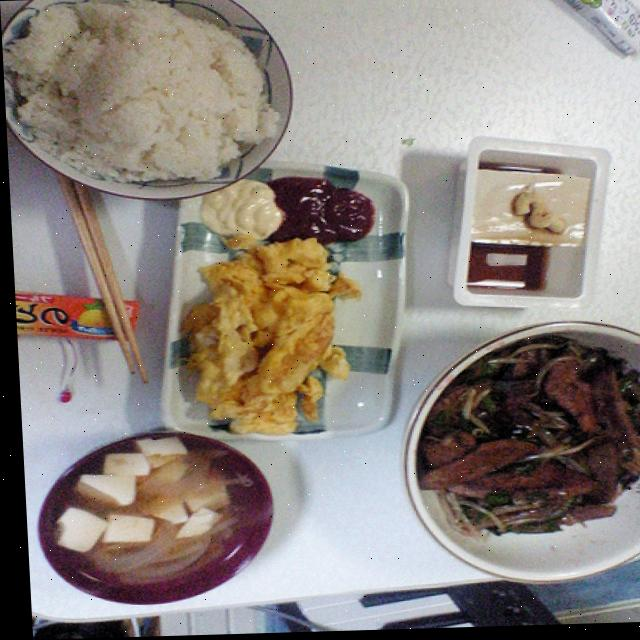汤锅炖物: (110, 407, 196, 638)
米饭主食: (0, 0, 309, 236)
豆腐料理: (447, 143, 603, 304)
鸡蛋料理: (172, 253, 343, 437)
